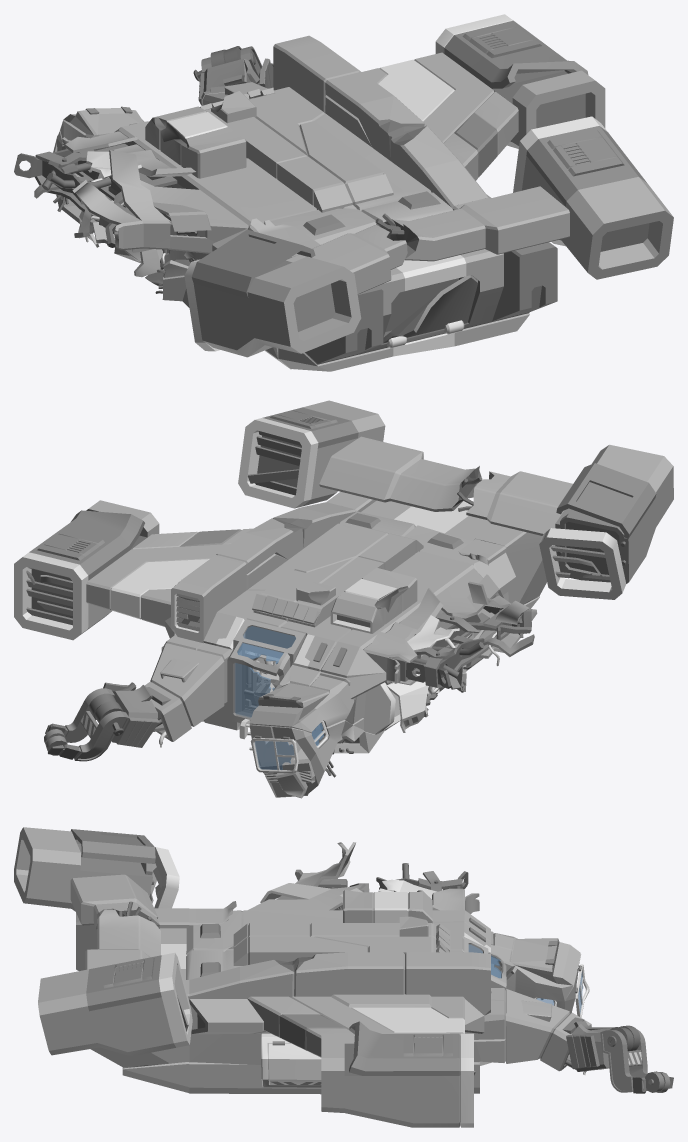
The model's file is env_spaceship_spaceship.fbx.
The picture shows the model from 3 angles, top to bottom: view 1: azimuth 30°, elevation 25°; view 2: azimuth 150°, elevation 25°; view 3: azimuth 270°, elevation 25°; orthographic projection. The views are drawn at different scales.
Visible parts, largest first — view 1: spaceship_and_floor_and_cockpit_and_wreckedwall_and_bathroom; view 2: spaceship_and_floor_and_cockpit_and_wreckedwall_and_bathroom; view 3: spaceship_and_floor_and_cockpit_and_wreckedwall_and_bathroom.
Boxes of the visible parts, bbox=[...] form: spaceship_and_floor_and_cockpit_and_wreckedwall_and_bathroom: bbox=[14, 14, 673, 371]; spaceship_and_floor_and_cockpit_and_wreckedwall_and_bathroom: bbox=[14, 400, 673, 798]; spaceship_and_floor_and_cockpit_and_wreckedwall_and_bathroom: bbox=[14, 827, 673, 1127].
Bounding box in the file's own units: 117 × 46.57 × 152.
